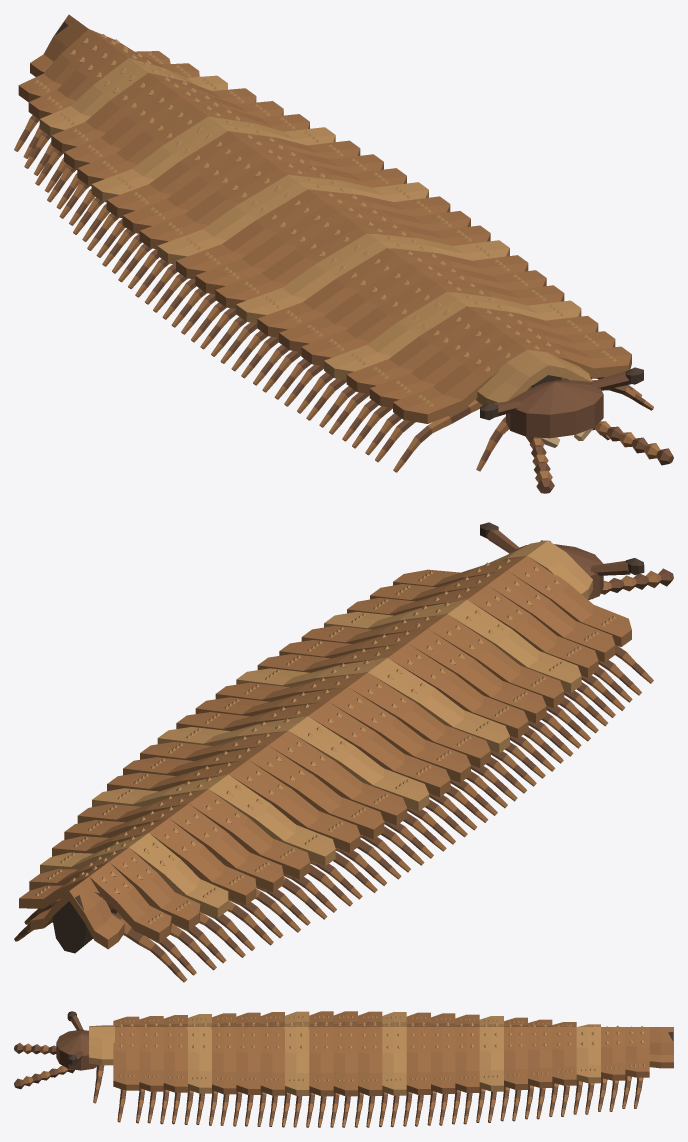
The model's file is arthropleura.glb.
3 renders of one model, top to bottom at view 1: azimuth 30°, elevation 25°; view 2: azimuth 150°, elevation 25°; view 3: azimuth 270°, elevation 25°, orthographic. The views are drawn at different scales.
Visible parts, largest first — view 1: arthropleura-juvenile-24-dorsal-units; view 2: arthropleura-juvenile-24-dorsal-units; view 3: arthropleura-juvenile-24-dorsal-units.
Part boxes in pixels (x1,y1,x2,y2): arthropleura-juvenile-24-dorsal-units: (14, 14, 673, 493); arthropleura-juvenile-24-dorsal-units: (14, 522, 673, 982); arthropleura-juvenile-24-dorsal-units: (14, 1011, 673, 1127).
Bounding box in the file's own units: 0.0143 × 0.00433 × 0.045.
